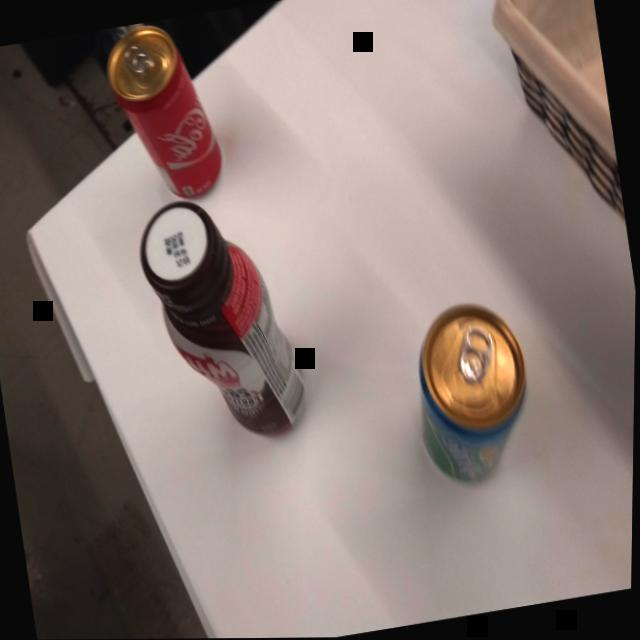chocolate_drink: (126, 183, 322, 462)
coke: (97, 14, 233, 217)
sprite: (392, 285, 550, 499)
